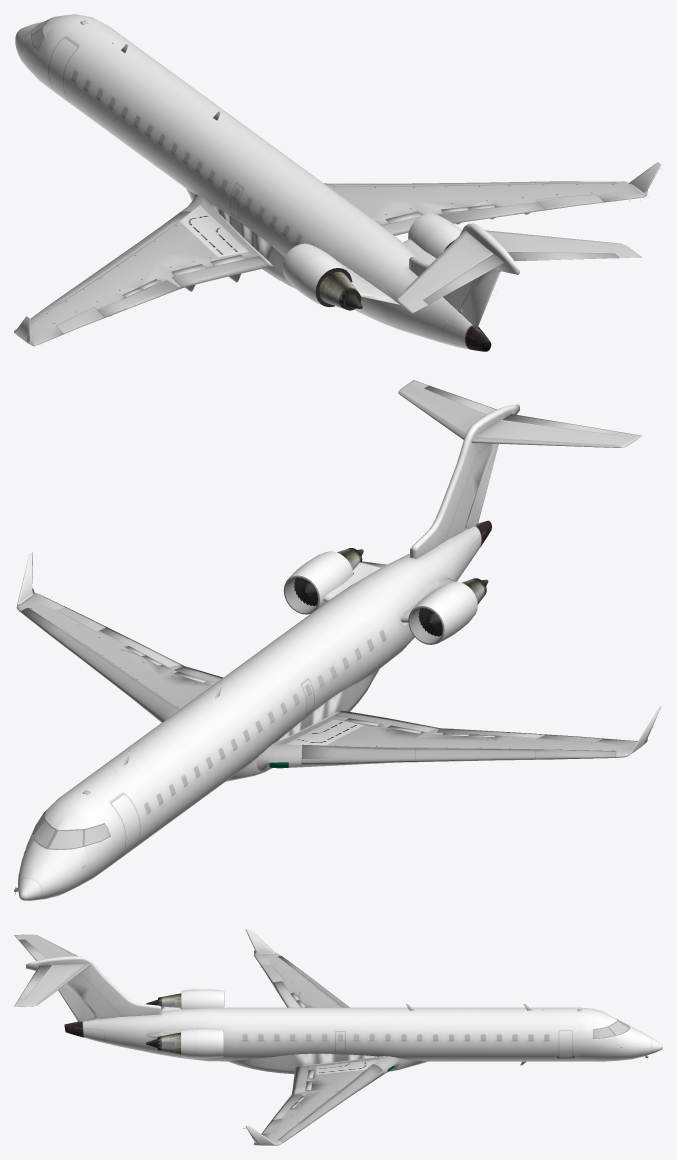
File: crj.glb
3 views of the same model, one above another, from view 1: azimuth 30°, elevation 25°; view 2: azimuth 150°, elevation 25°; view 3: azimuth 270°, elevation 25° (orthographic). The views are drawn at different scales.
Visible parts, largest first — view 1: Fuselage, Wings, Hstabs, Vstab, FlapL1, Belly, SlatsL, Rudder, Windows, Nozzle_001, FlapR2, Nacelle_001 (+12 smaller); view 2: Fuselage, Wings, Hstabs, Vstab, SlatsL, SlatsR, Belly, CockpitWindows, Nacelle_001, Windows, Nacelle, LeftDoor (+3 smaller); view 3: Fuselage, Wings, Vstab, Hstabs, Belly, SlatsR, Windows, Nacelle, Rudder, Winglets, Reverser, Nozzle (+8 smaller).
Boxes of the visible parts, x1=… form: Fuselage: x1=15, y1=14, x2=491, y2=351; Wings: x1=14, y1=181, x2=645, y2=346; Hstabs: x1=397, y1=230, x2=641, y2=313; Vstab: x1=409, y1=223, x2=519, y2=327; FlapL1: x1=172, y1=256, x2=269, y2=291; Belly: x1=186, y1=189, x2=295, y2=288; SlatsL: x1=30, y1=211, x2=190, y2=323; Rudder: x1=460, y1=269, x2=500, y2=328; Windows: x1=71, y1=70, x2=314, y2=245; Nozzle_001: x1=319, y1=271, x2=361, y2=309; FlapR2: x1=438, y1=203, x2=545, y2=224; Nacelle_001: x1=282, y1=243, x2=332, y2=295; Fuselage: x1=18, y1=520, x2=491, y2=900; Wings: x1=16, y1=593, x2=637, y2=771; Hstabs: x1=398, y1=380, x2=641, y2=447; Vstab: x1=410, y1=404, x2=519, y2=558; SlatsL: x1=301, y1=744, x2=615, y2=765; SlatsR: x1=21, y1=608, x2=179, y2=722; Belly: x1=226, y1=669, x2=379, y2=781; CockpitWindows: x1=34, y1=811, x2=109, y2=848; Nacelle_001: x1=411, y1=589, x2=466, y2=643; Windows: x1=144, y1=630, x2=386, y2=814; Nacelle: x1=287, y1=559, x2=341, y2=608; LeftDoor: x1=110, y1=793, x2=140, y2=857; Fuselage: x1=64, y1=1007, x2=662, y2=1061; Wings: x1=253, y1=953, x2=399, y2=1145; Vstab: x1=26, y1=956, x2=161, y2=1021; Hstabs: x1=14, y1=934, x2=90, y2=1006; Belly: x1=227, y1=1053, x2=427, y2=1074; SlatsR: x1=278, y1=1064, x2=383, y2=1142; Windows: x1=242, y1=1034, x2=549, y2=1041; Nacelle: x1=199, y1=1028, x2=223, y2=1058; Rudder: x1=58, y1=981, x2=96, y2=1021; Winglets: x1=245, y1=929, x2=276, y2=1145; Reverser: x1=181, y1=1028, x2=198, y2=1058; Nozzle: x1=146, y1=1032, x2=180, y2=1054.
Size of the model in its own units: 23.29 by 6.09 by 32.46.
Materials: 11 (5 with a texture image).
